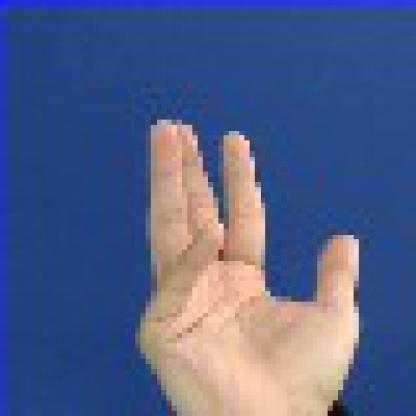nine: (73, 62, 411, 411)
